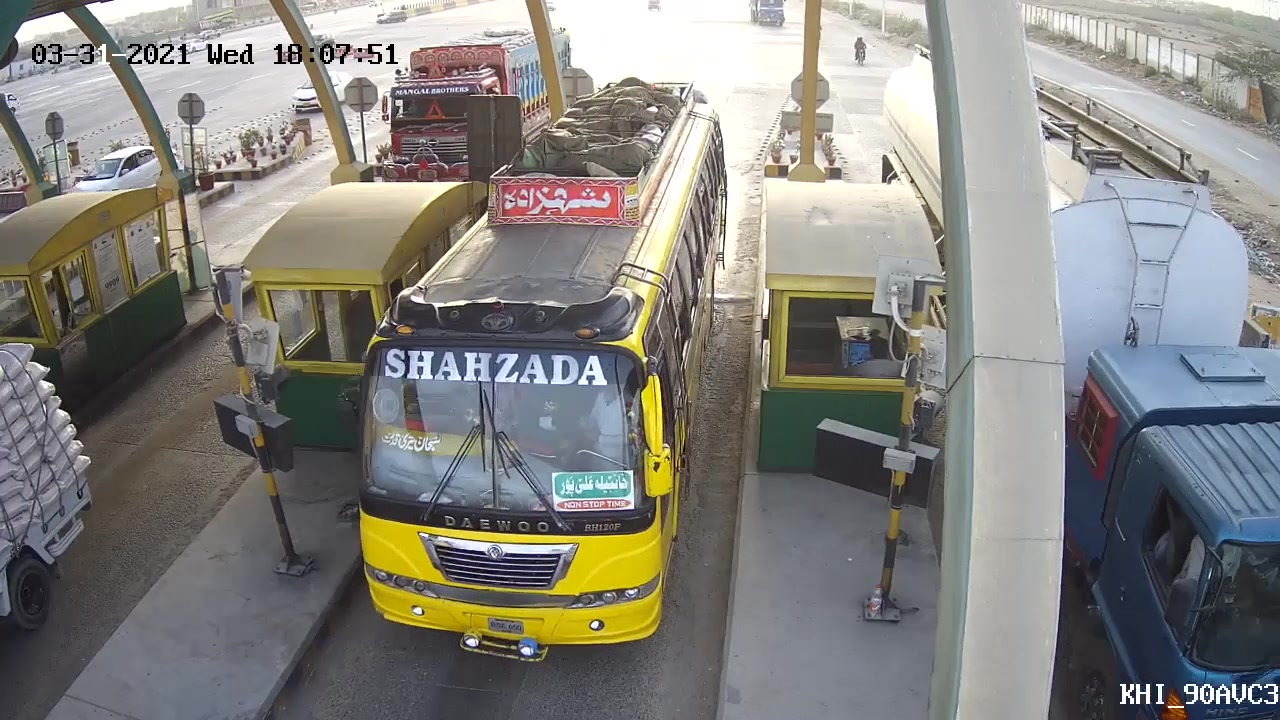F4: (328, 72, 743, 667)
